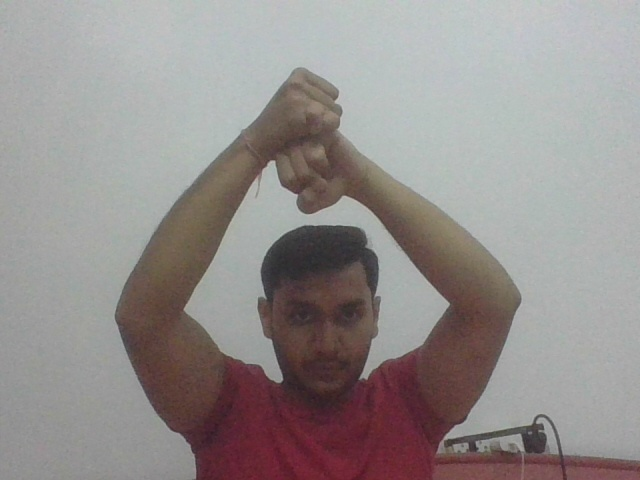S: (271, 65, 352, 218)
